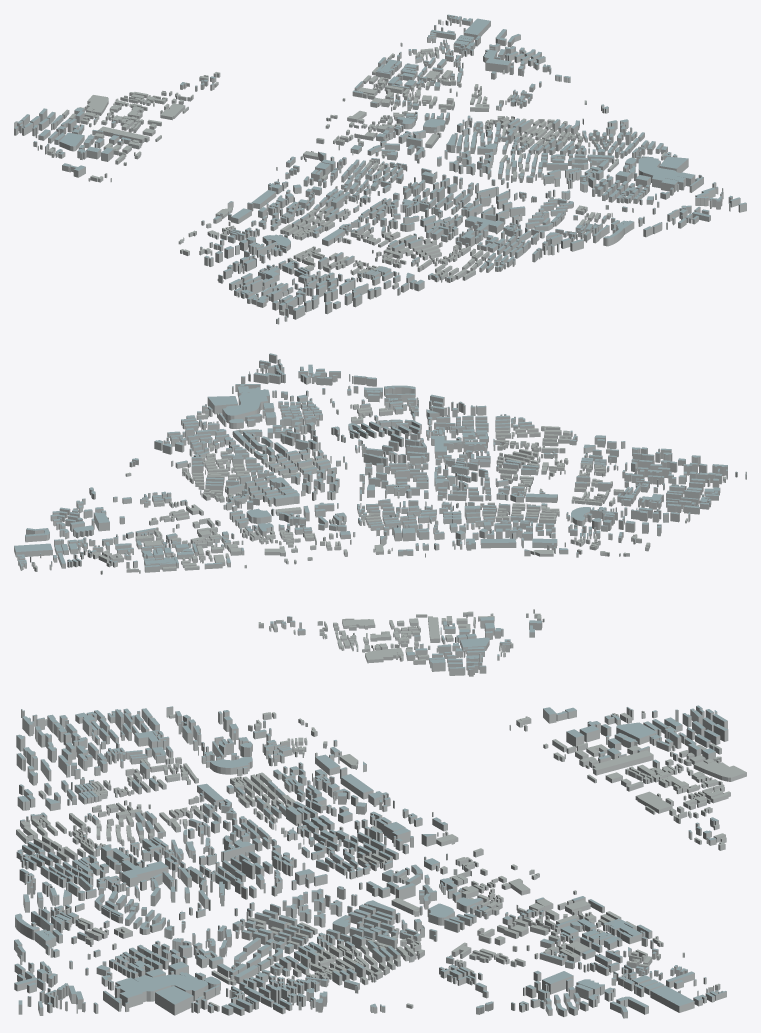
Rendered from far.glb.
The picture shows the model from 3 angles, top to bottom: view 1: azimuth 30°, elevation 25°; view 2: azimuth 150°, elevation 25°; view 3: azimuth 270°, elevation 25°; orthographic projection. The views are drawn at different scales.
Bounding box in the file's own units: 2137 × 46.76 × 2176.
